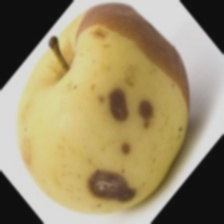apple: (14, 61, 184, 203)
